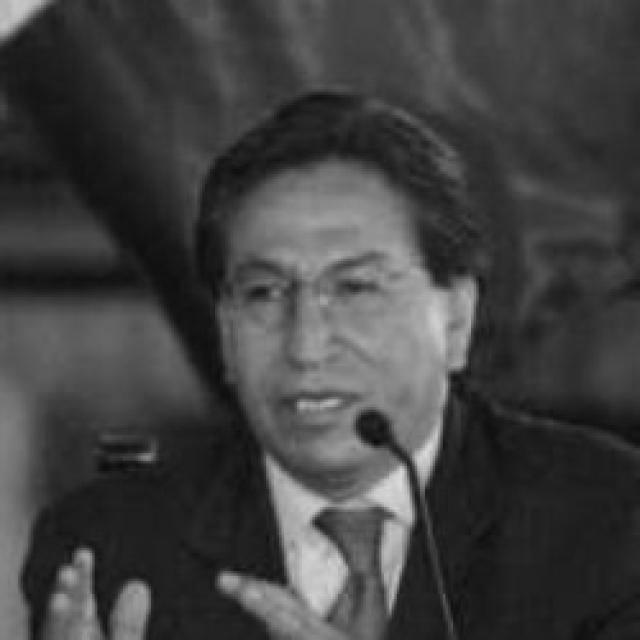real: (210, 142, 478, 482), (235, 257, 416, 323)
